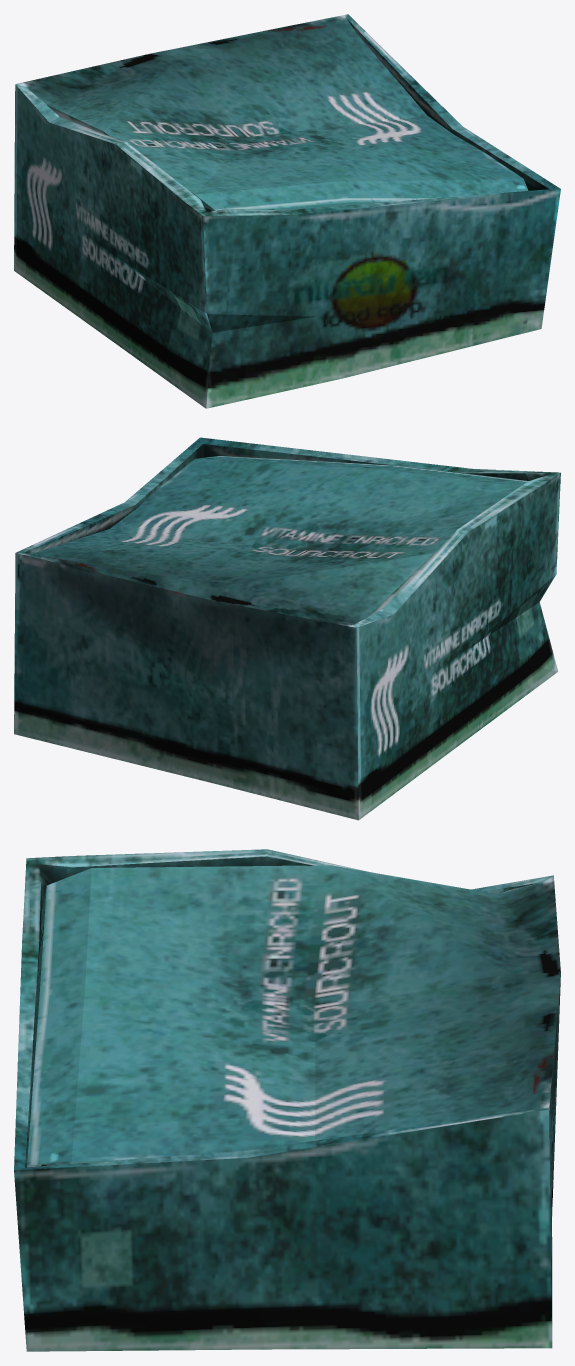
Rendered from foodbox01.dae.
The picture shows the model from 3 angles, top to bottom: view 1: azimuth 30°, elevation 25°; view 2: azimuth 150°, elevation 25°; view 3: azimuth 270°, elevation 25°; orthographic projection. The views are drawn at different scales.
Visible parts, largest first — view 1: foodbox01; view 2: foodbox01; view 3: foodbox01.
Part boxes in pixels (bbox=[...]): foodbox01: bbox=[14, 14, 560, 408]; foodbox01: bbox=[14, 437, 560, 820]; foodbox01: bbox=[14, 849, 560, 1351].
Size of the model in its own units: 0.1051 by 0.0576 by 0.1028.
